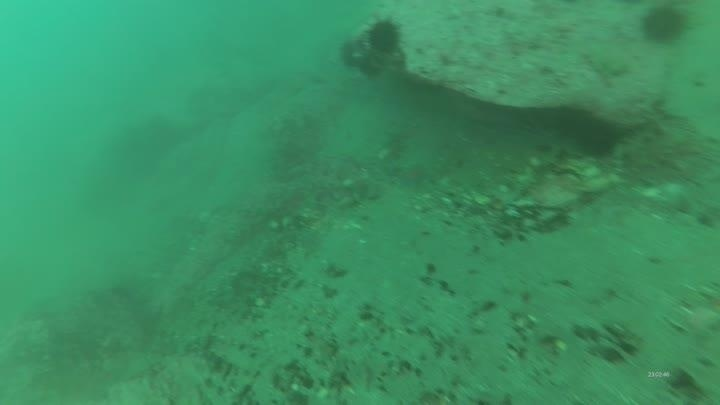echinus: (637, 3, 692, 48), (571, 117, 621, 160), (363, 16, 404, 57)
